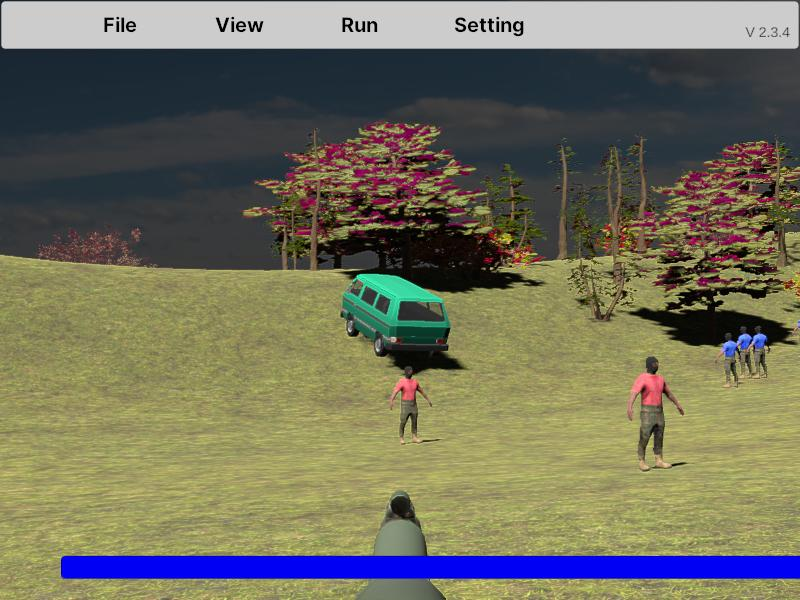Human: (628, 356, 684, 472), (390, 366, 432, 445), (716, 331, 742, 390), (749, 326, 771, 381), (735, 326, 755, 379)
car: (341, 274, 450, 359)
